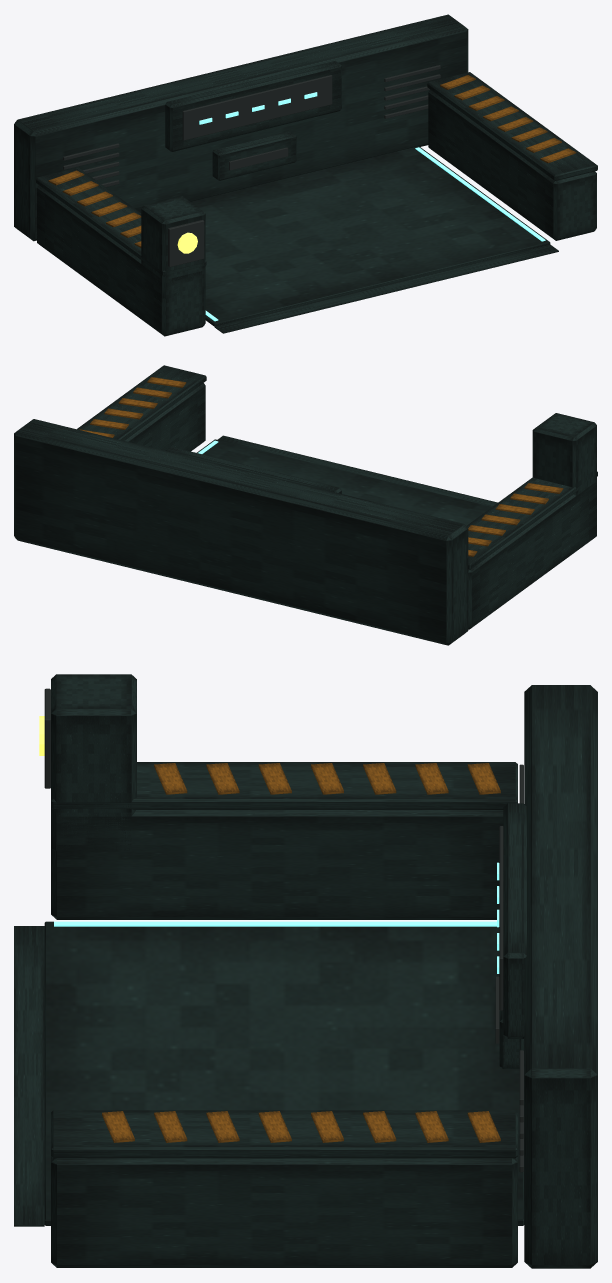
Rendered from THStage_ExtractionBay.fbx.
3 views of the same model, one above another, from view 1: azimuth 30°, elevation 25°; view 2: azimuth 150°, elevation 25°; view 3: azimuth 270°, elevation 25° (orthographic). The views are drawn at different scales.
Visible parts, largest first — view 1: THStage_ExtractionBay; view 2: THStage_ExtractionBay; view 3: THStage_ExtractionBay.
Boxes of the visible parts, x1,y1,x2,y2 form: THStage_ExtractionBay: [14, 14, 597, 336]; THStage_ExtractionBay: [14, 365, 597, 645]; THStage_ExtractionBay: [14, 674, 597, 1268].
Size of the model in its own units: 3 by 0.76 by 1.9.
4 materials, 1 textured.
